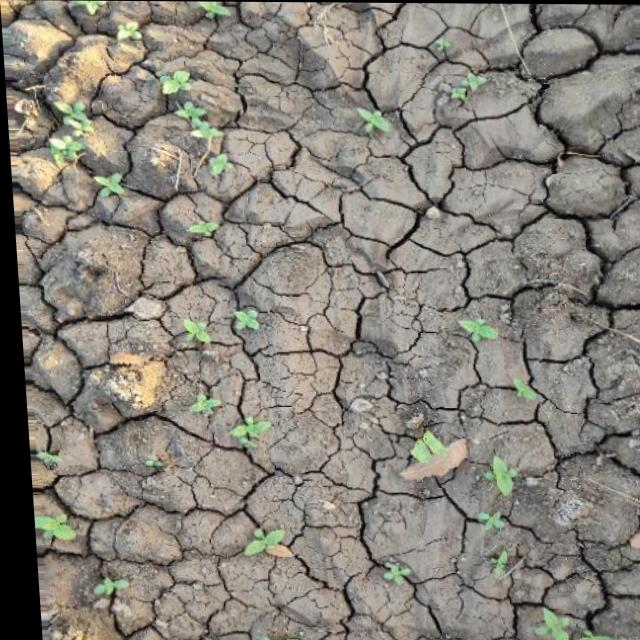crop: (32, 93, 127, 206), (148, 68, 237, 184), (181, 393, 268, 451), (170, 303, 262, 344), (420, 70, 503, 111), (471, 450, 516, 496), (234, 519, 281, 562), (447, 308, 494, 346), (353, 103, 396, 137), (366, 552, 405, 587)
